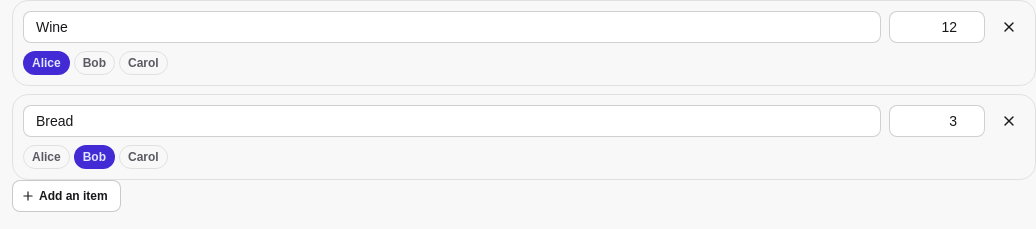
Scenario: ExpenseItemsField › tells the form when an amount changes or a line goes
Replace the text in the number field named "Amount of item 1" with "15" at (937, 27), box [889, 11, 985, 43]
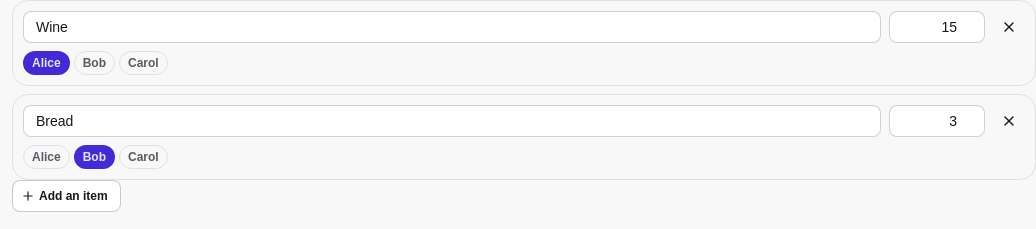
Click the button named "Remove item 1" at (1009, 27), box [993, 11, 1025, 43]
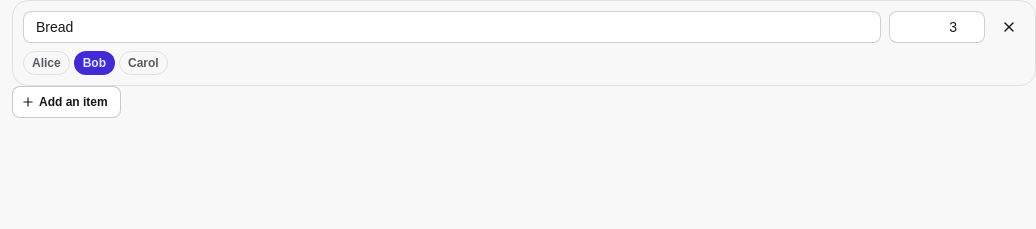
Check: the number of list items is 1, box [12, 0, 1035, 86]
